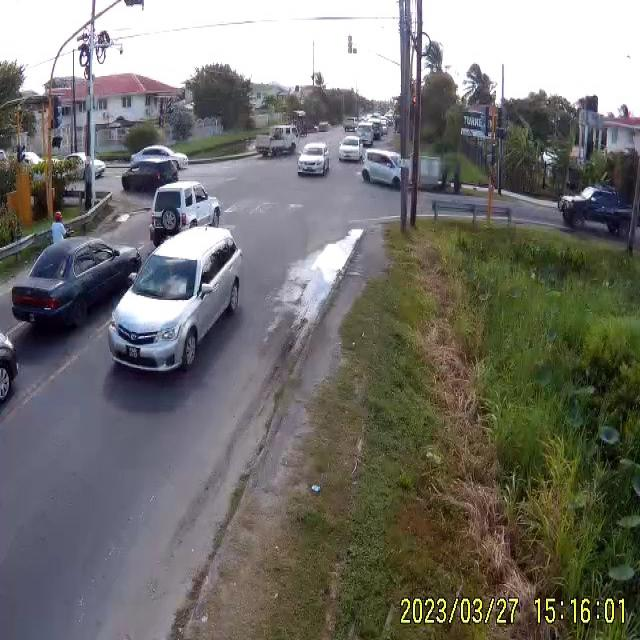car: (106, 228, 244, 370), (11, 237, 140, 333), (152, 181, 220, 236), (563, 189, 627, 233), (125, 146, 183, 192), (360, 149, 403, 188), (297, 143, 329, 179), (339, 138, 362, 163)
truck: (268, 126, 298, 157)
